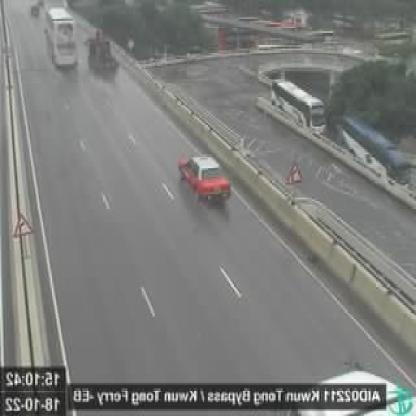Bus: (273, 79, 325, 138), (46, 6, 76, 72)
Car: (178, 153, 232, 207)
Truck: (84, 30, 121, 81)
